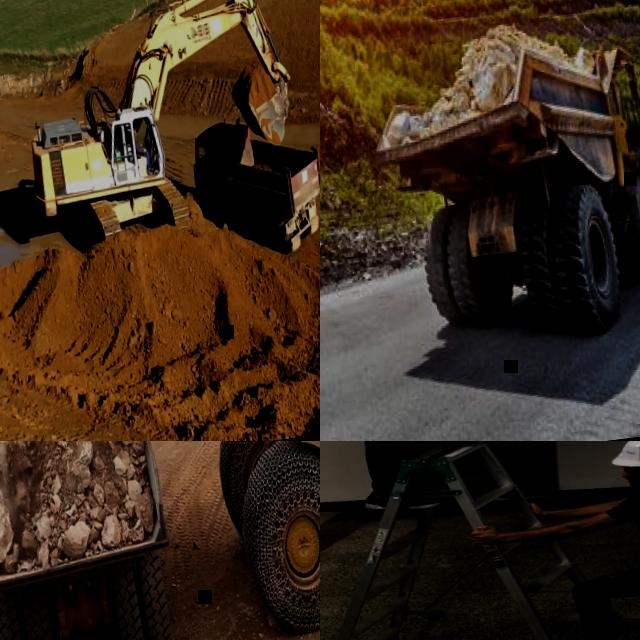Hardhat: (607, 441, 640, 469)
NO-Hardhat: (132, 128, 136, 132)
NO-Mask: (625, 469, 640, 487)
NO-Safety Vest: (129, 135, 141, 157)
Person: (462, 441, 640, 640), (320, 441, 515, 514), (132, 125, 153, 176)
machinery: (365, 27, 640, 376), (8, 0, 306, 252), (25, 441, 320, 640), (0, 441, 186, 640), (186, 106, 320, 264)
